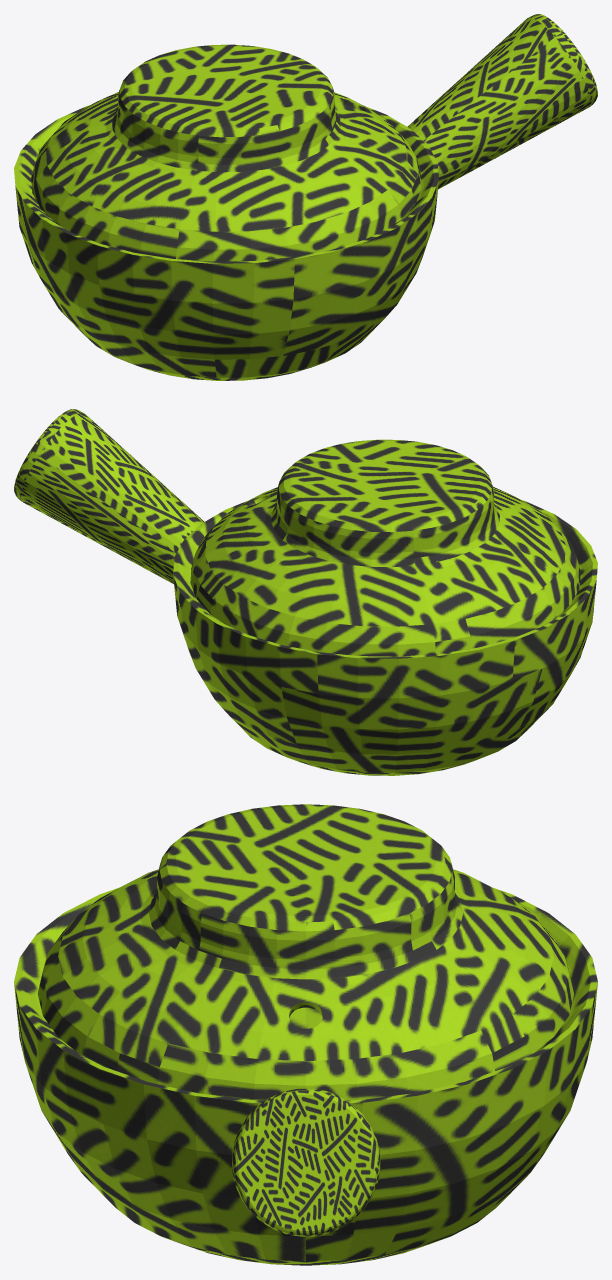
The model's file is pot_.fbx.
3 views of the same model, one above another, from view 1: azimuth 30°, elevation 25°; view 2: azimuth 150°, elevation 25°; view 3: azimuth 270°, elevation 25° (orthographic). The views are drawn at different scales.
Visible parts, largest first — view 1: Cylinder; view 2: Cylinder; view 3: Cylinder.
Boxes of the visible parts, x1,y1,x2,y2 form: Cylinder: (14, 14, 597, 380); Cylinder: (14, 409, 597, 775); Cylinder: (14, 804, 597, 1265).
Bounding box in the file's own units: 294 × 131 × 200.
